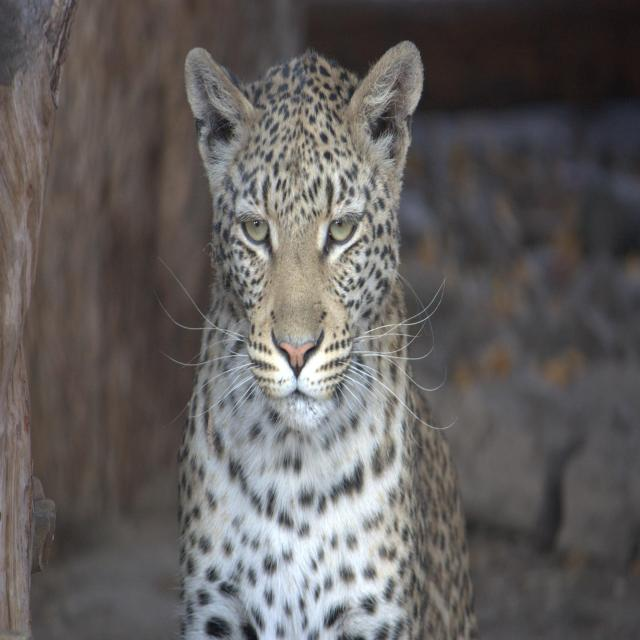Leopard: (161, 43, 481, 640)
